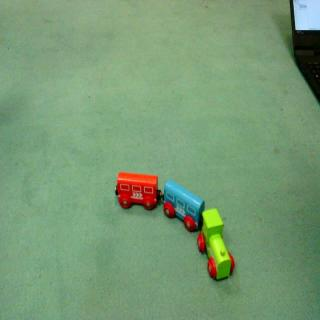train: (112, 170, 238, 288)
